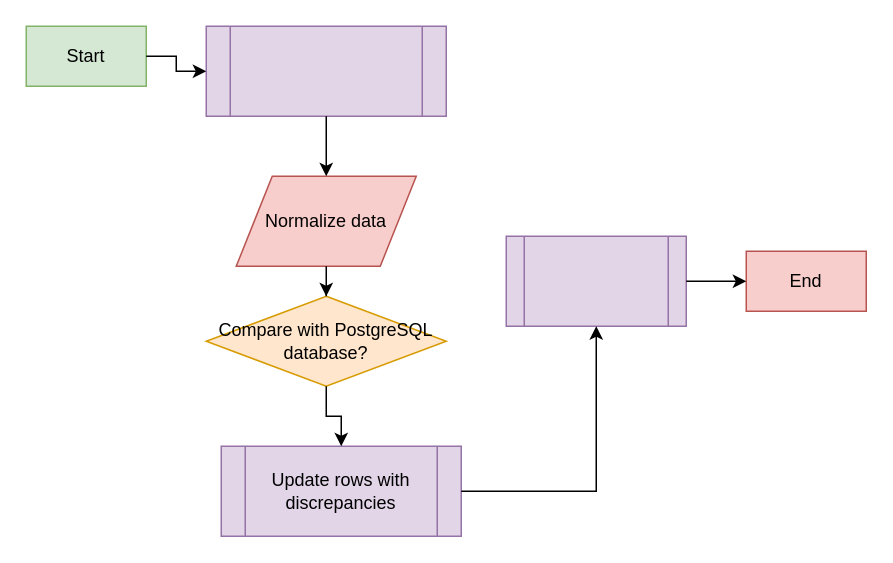
This 893x563 diagram has some shape labels left out. The centre of each missing label's shape, as x and y in pixels:
"Add new records" belongs at pixel 595 280.
"Retrieve data from SharePoint list" belongs at pixel 325 70.
